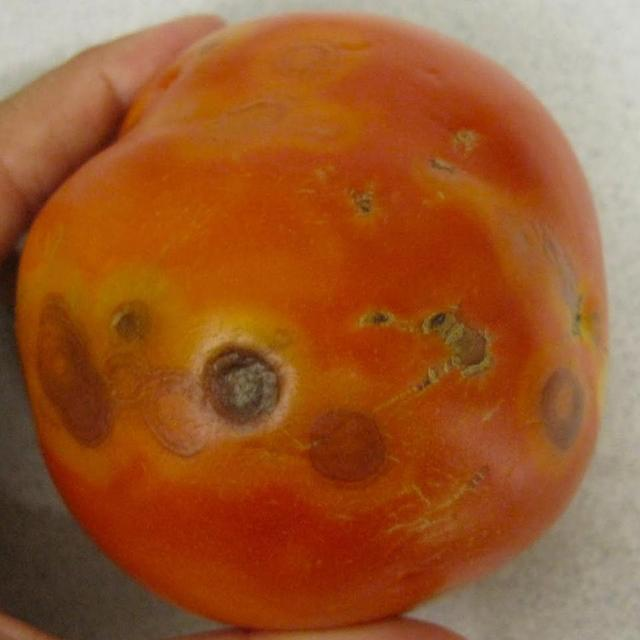Spotted wilt Virus Fruit: (72, 9, 182, 52)
